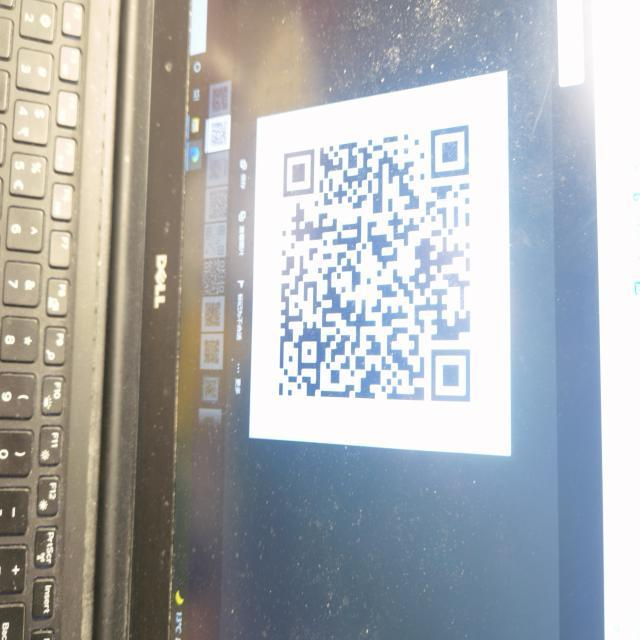qr_code: (278, 126, 472, 403)
